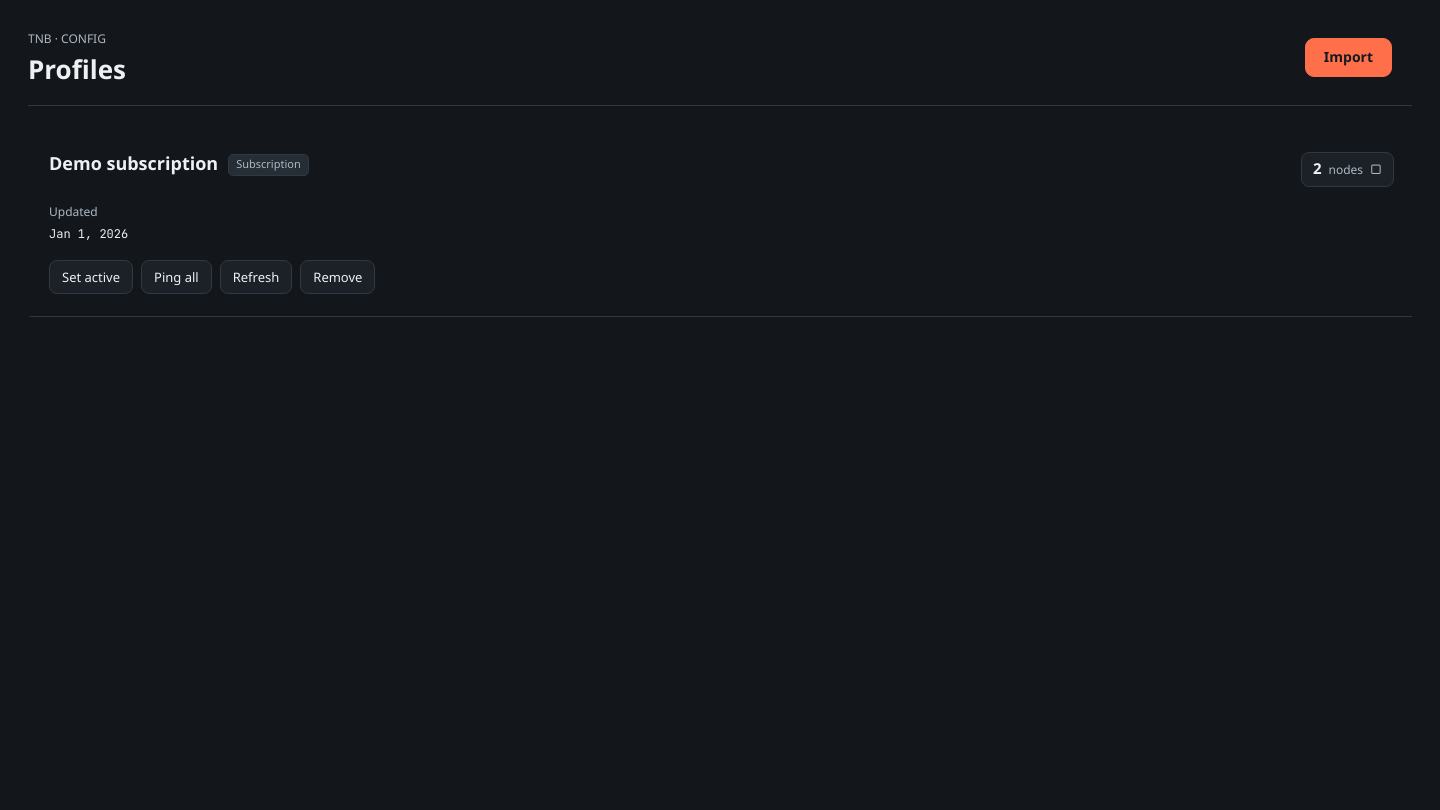
it: ProfilesScreen import dialog › subscription tab › warns on a plain http:// URL without blocking the import
Click the button "Import" at (1348, 58), box [1305,38,1392,77]
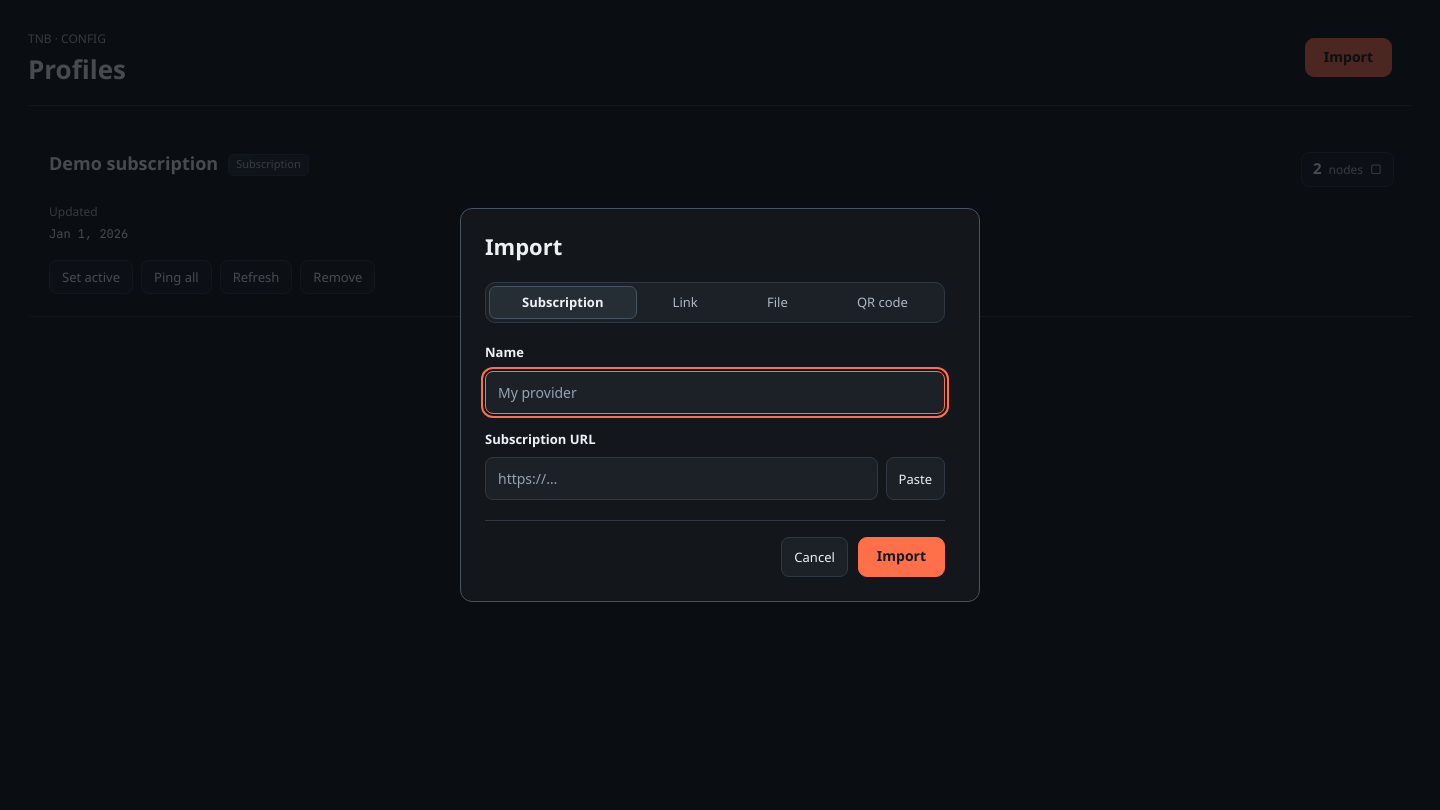
Type "https://example.invalid/sub" into the field with placeholder "https://…" at (681, 479), box [485,457,878,500]
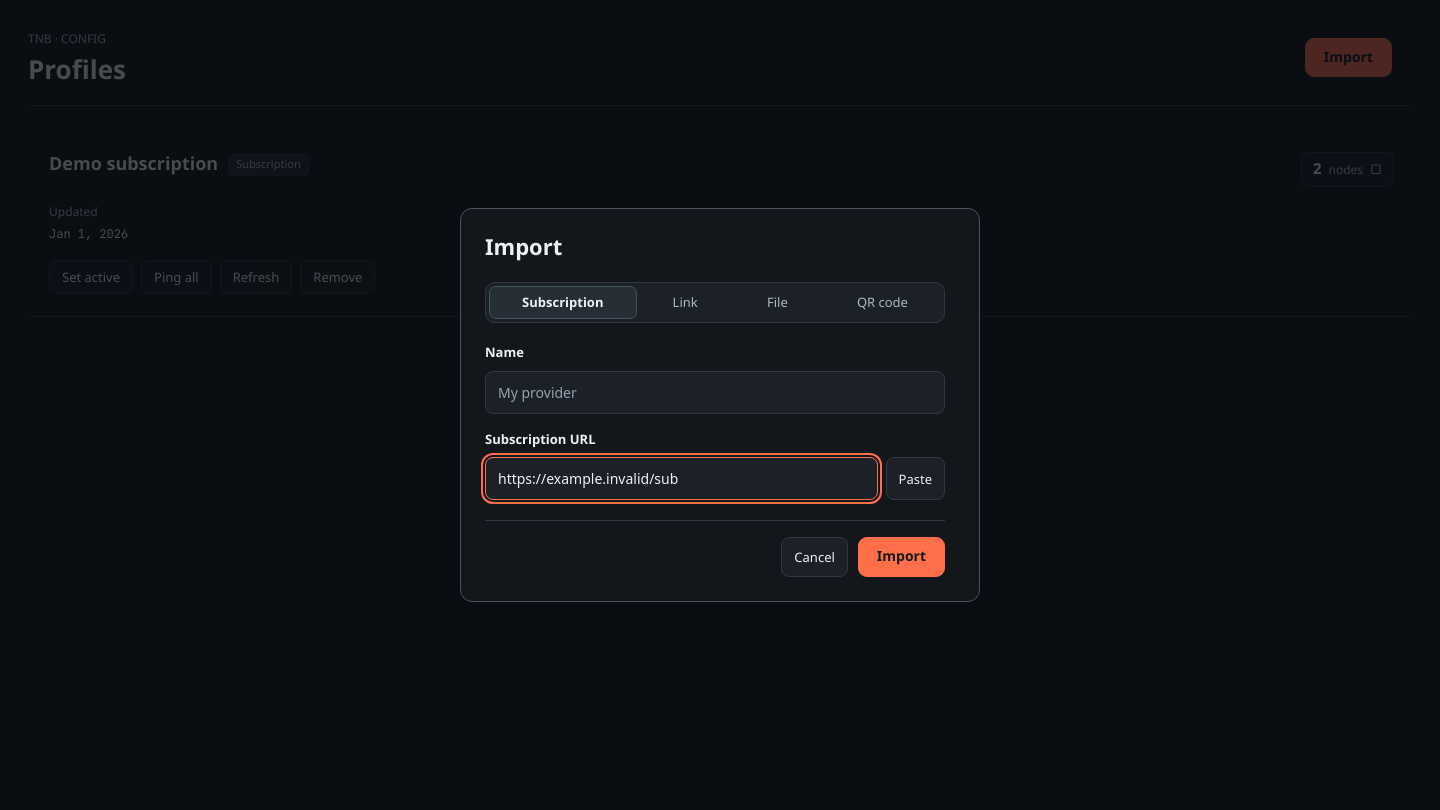
Expected: the text "Unencrypted http" is not shown
Replace the text in the field with placeholder "https://…" with "http://example.invalid/sub" at (681, 479), box [485,457,878,500]
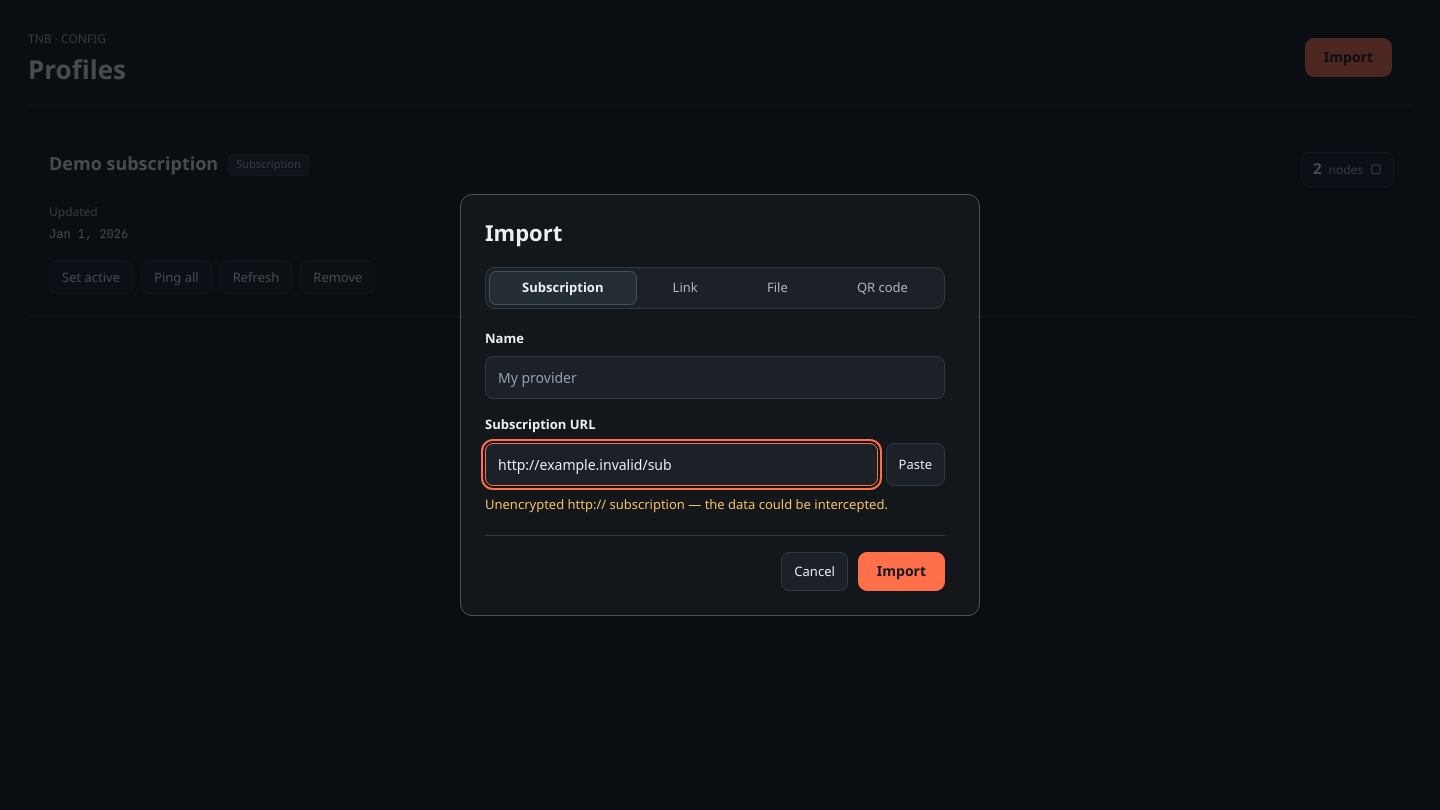
Now the text "Unencrypted http:// subscription — the data could be intercepted." is shown, box [485,494,945,515]
